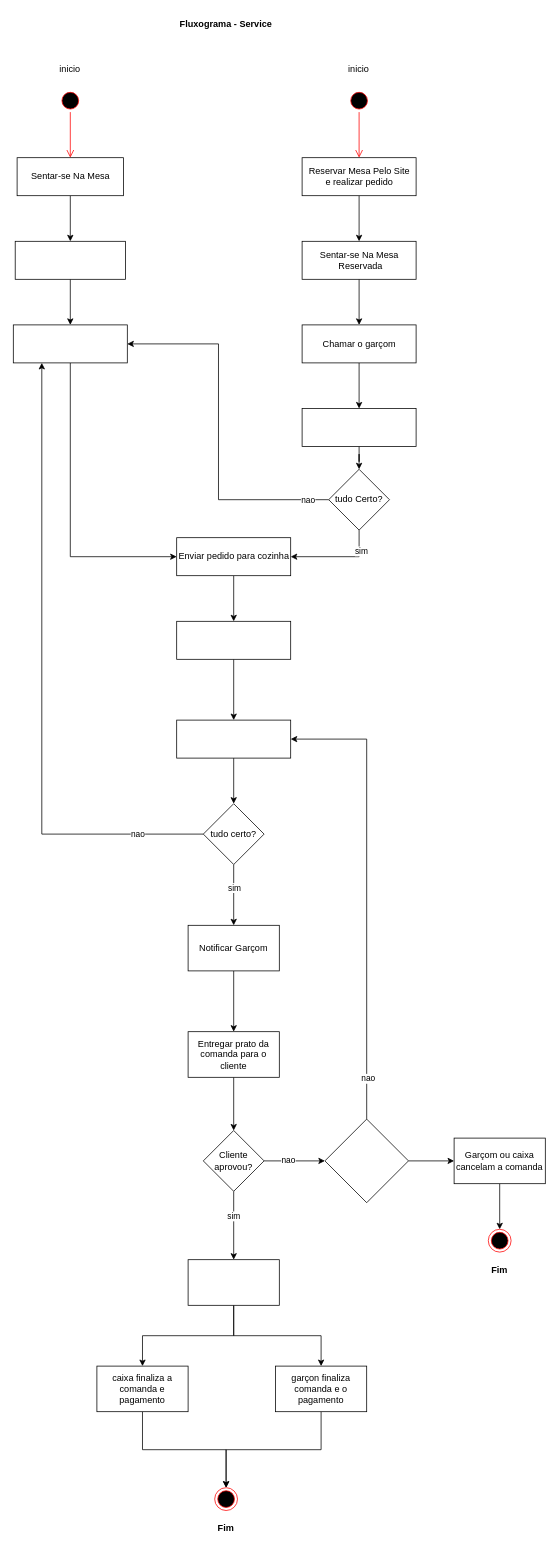
Some shapes in this 559 by 1550 pixel diagram are drawn without their labels. The shapes that lost their labels are listed below. From the top down, each one's centre as x and y in pixels, then its label:
At (x=69, y=260): "Chamar o Garçon".
At (x=70, y=343): "Montar comanda com o cliente".
At (x=358, y=427): "Revisar comanda com o cliente".
At (x=233, y=640): "Receber pedido do Garçon".
At (x=233, y=738): "Cozinhar".
At (x=366, y=1160): "cliente decidiu cancelar a comanda?".
At (x=233, y=1282): "efetuar o pagamento".
